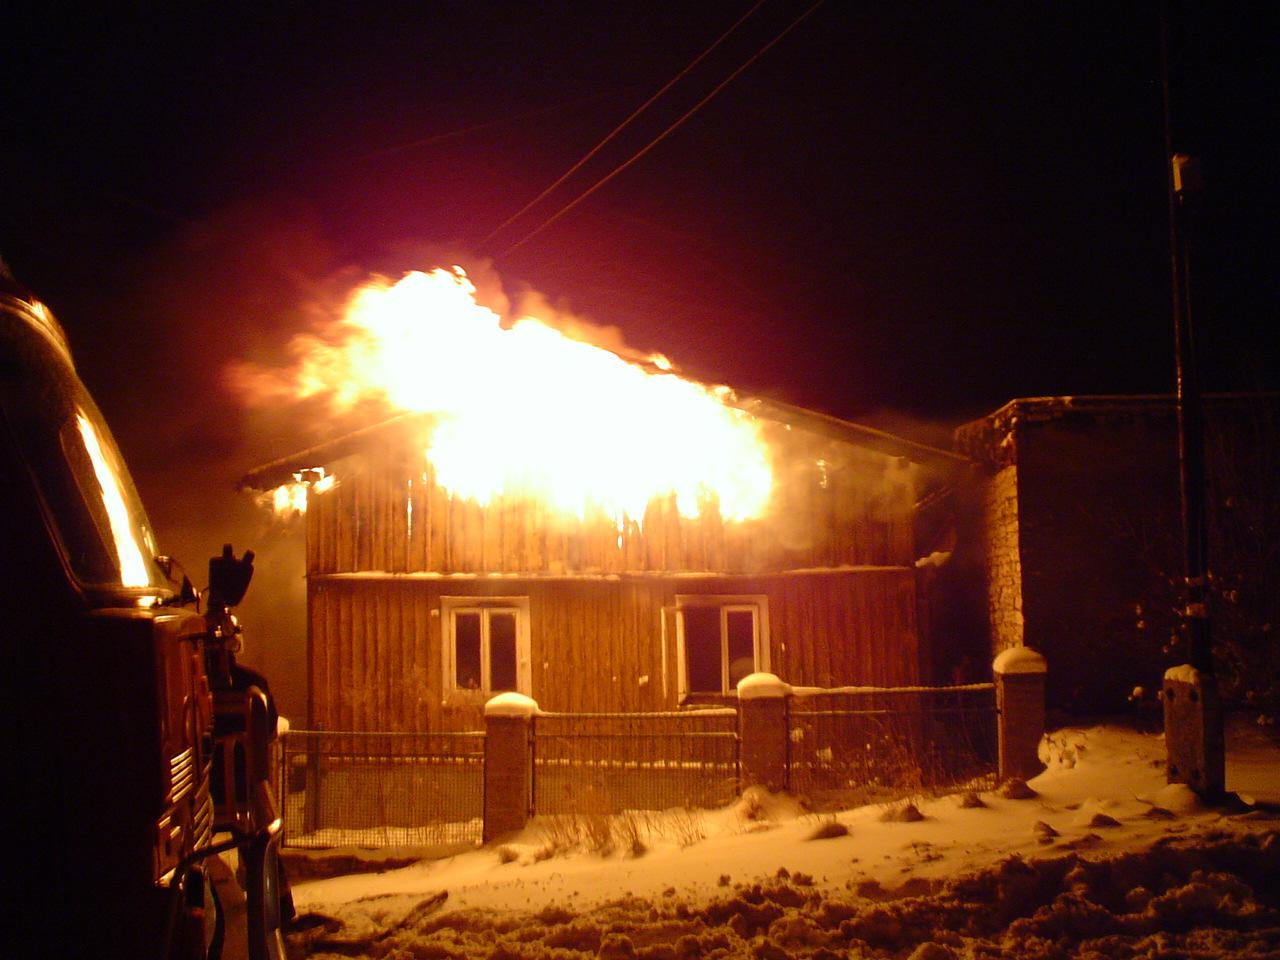fire: (267, 231, 799, 565)
